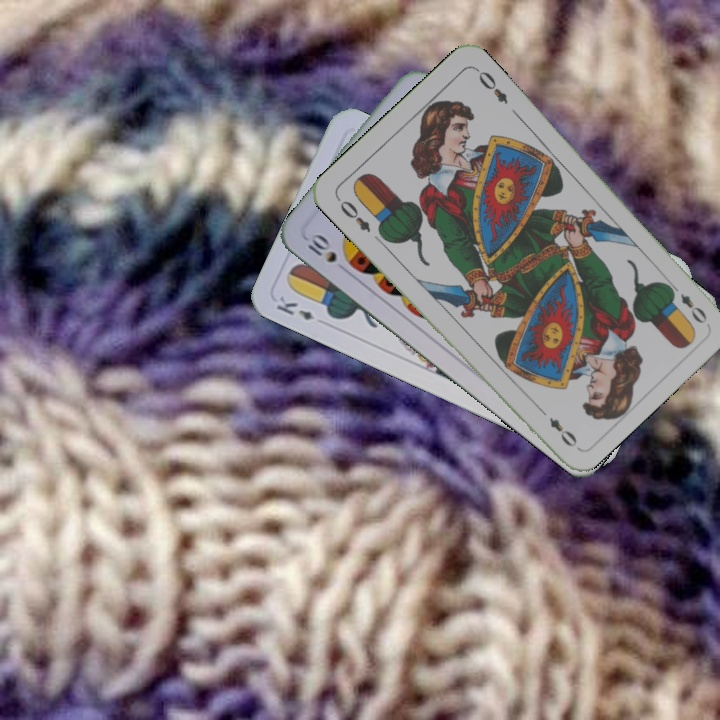EK: (272, 292, 317, 323)
EO: (664, 279, 710, 327), (332, 193, 374, 235)
S10: (302, 229, 340, 266)
